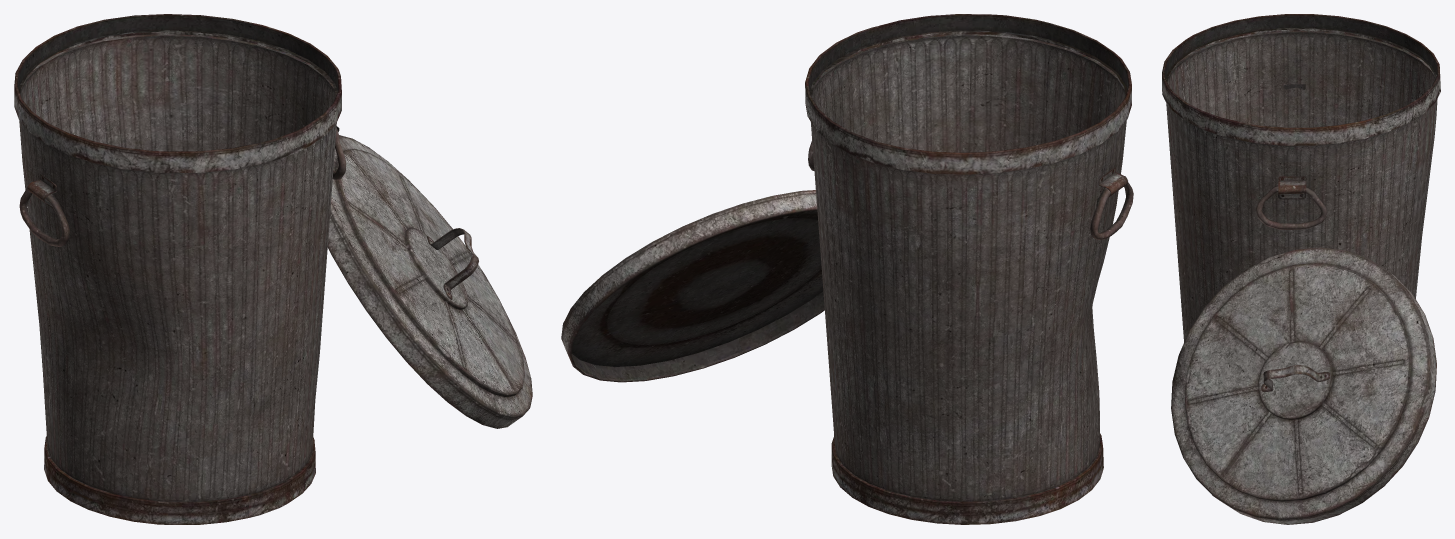
Rendered from trashcan4.glb.
The picture shows the model from 3 angles, left to right: view 1: azimuth 30°, elevation 25°; view 2: azimuth 150°, elevation 25°; view 3: azimuth 270°, elevation 25°; orthographic projection. The views are drawn at different scales.
Visible parts, largest first — view 1: Can, Lid; view 2: Can, Lid; view 3: Can, Lid.
Part boxes in pixels (bbox=[...]): Can: bbox=[14, 14, 346, 524]; Lid: bbox=[327, 135, 532, 428]; Can: bbox=[805, 14, 1133, 524]; Lid: bbox=[561, 190, 824, 382]; Can: bbox=[1162, 14, 1440, 342]; Lid: bbox=[1171, 247, 1436, 524].
Bounding box in the file's own units: 0.8922 × 0.651 × 0.5109.
Materials: 1 (1 with a texture image).
